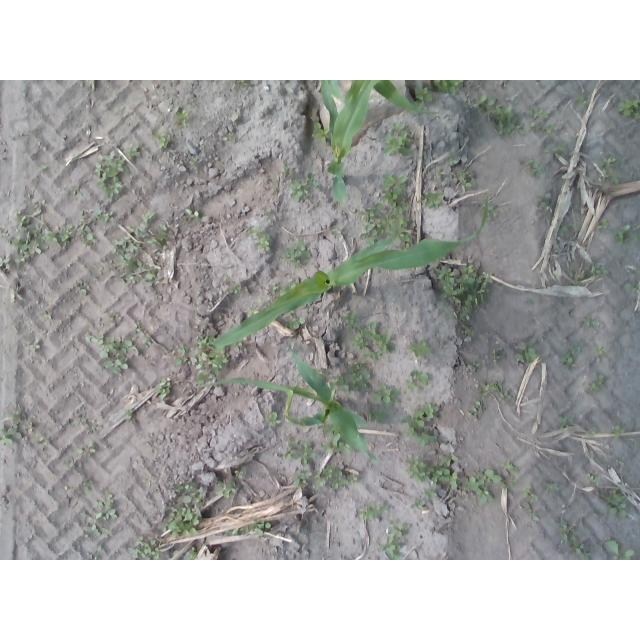Maize: (213, 195, 488, 350), (185, 349, 383, 463), (320, 81, 440, 204)
Weeds: (404, 451, 520, 506), (2, 198, 75, 275), (110, 211, 170, 289), (435, 260, 494, 338), (360, 174, 412, 247), (95, 141, 142, 199), (341, 314, 395, 362), (85, 328, 139, 376), (166, 481, 209, 538), (476, 94, 525, 138), (288, 466, 360, 495), (193, 331, 230, 385), (401, 401, 441, 447), (80, 493, 118, 538), (77, 203, 112, 249), (376, 517, 412, 560), (1, 405, 36, 446), (332, 361, 373, 395), (558, 520, 591, 561), (283, 433, 317, 468), (384, 120, 414, 157), (216, 469, 246, 500), (290, 173, 320, 204), (129, 536, 161, 561), (600, 154, 625, 185), (71, 410, 103, 434), (245, 226, 272, 253), (285, 239, 312, 266), (405, 369, 432, 395), (479, 379, 513, 399), (605, 489, 629, 517), (356, 503, 393, 521), (605, 538, 635, 560), (516, 339, 541, 363), (517, 157, 547, 177), (371, 384, 399, 405), (323, 432, 349, 454), (405, 339, 435, 358), (617, 97, 640, 120), (561, 346, 582, 370), (416, 190, 443, 208), (311, 121, 331, 145), (173, 107, 192, 130), (364, 407, 388, 425), (432, 80, 465, 93), (414, 87, 435, 107), (469, 399, 488, 421), (456, 172, 476, 192), (76, 473, 97, 492), (587, 373, 605, 395), (220, 273, 240, 292), (614, 223, 631, 245), (519, 483, 538, 502), (531, 103, 551, 121), (524, 502, 541, 523), (155, 377, 173, 396), (569, 260, 585, 281), (175, 343, 190, 365), (248, 522, 273, 535), (155, 131, 173, 149), (531, 122, 555, 135), (332, 225, 349, 243), (267, 411, 282, 430), (286, 318, 307, 331), (558, 223, 576, 238), (70, 184, 86, 200), (78, 443, 95, 458), (409, 498, 427, 512), (555, 415, 574, 428), (593, 261, 609, 276), (487, 198, 499, 218), (184, 205, 200, 220), (109, 312, 124, 328), (86, 545, 102, 560), (75, 279, 89, 296), (551, 144, 570, 156), (489, 347, 504, 362), (536, 195, 551, 210), (33, 433, 48, 448), (583, 316, 599, 330), (624, 281, 640, 295), (62, 456, 76, 472), (141, 332, 154, 349), (282, 161, 294, 179), (189, 155, 202, 171), (448, 147, 460, 164), (183, 546, 197, 560), (611, 425, 625, 439), (577, 96, 590, 111), (594, 345, 606, 361), (545, 481, 560, 493), (586, 473, 602, 484), (595, 219, 609, 231), (30, 339, 41, 354), (269, 282, 279, 298), (42, 310, 53, 323), (434, 167, 443, 182), (124, 409, 135, 421), (134, 320, 144, 333), (471, 361, 482, 372), (248, 305, 260, 315), (280, 284, 289, 296), (224, 134, 236, 143), (588, 428, 600, 436), (233, 80, 248, 86), (257, 297, 264, 303)
